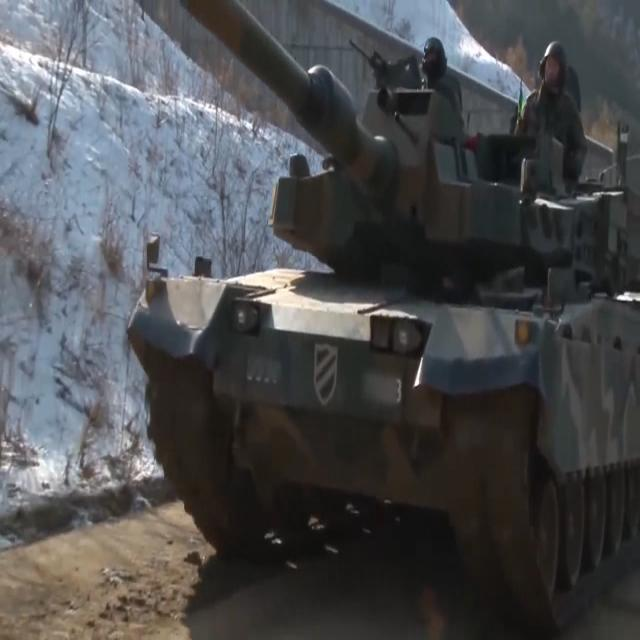korea tank: (124, 1, 640, 640)
